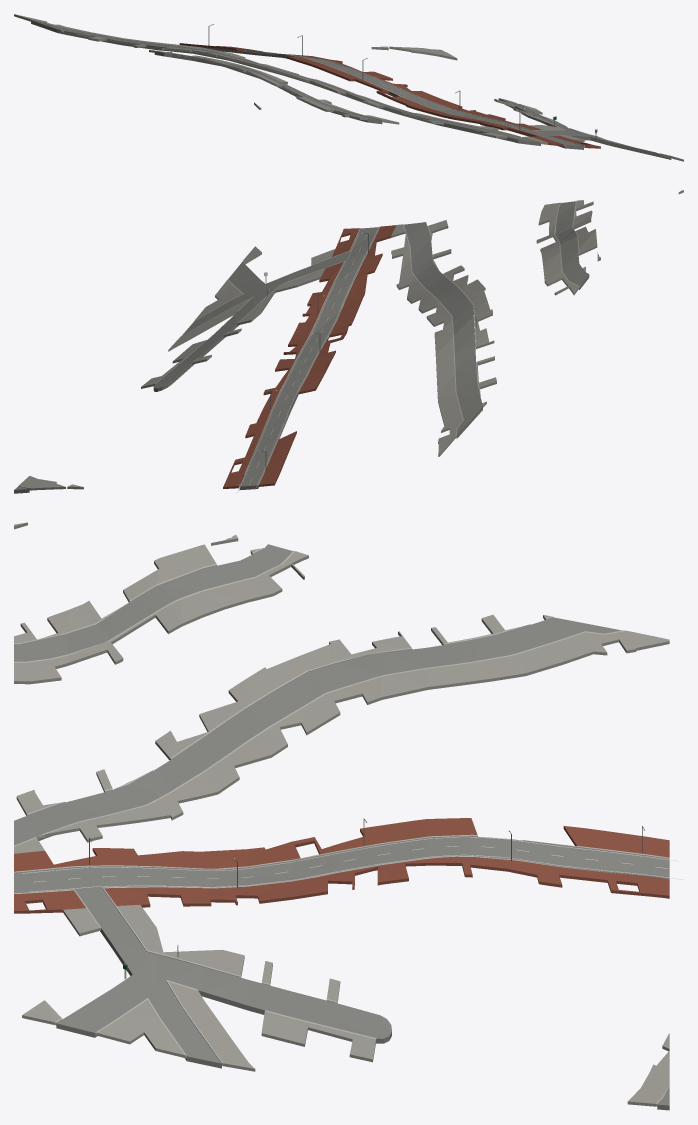
The picture shows the model from 3 angles, top to bottom: view 1: azimuth 30°, elevation 25°; view 2: azimuth 150°, elevation 25°; view 3: azimuth 270°, elevation 25°; orthographic projection. The views are drawn at different scales.
Bounding box in the file's own units: 147 × 75.83 × 149.
